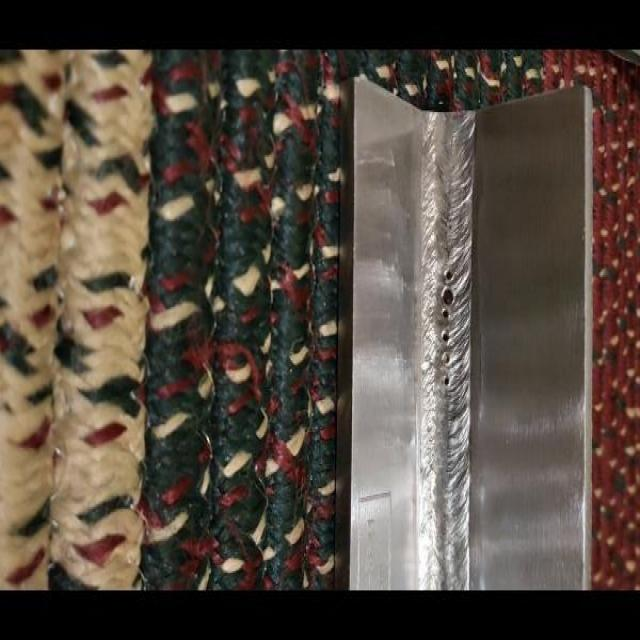Welding Line: (422, 112, 470, 591)
Workpiece: (345, 78, 589, 590)
porosity: (439, 267, 454, 384)
